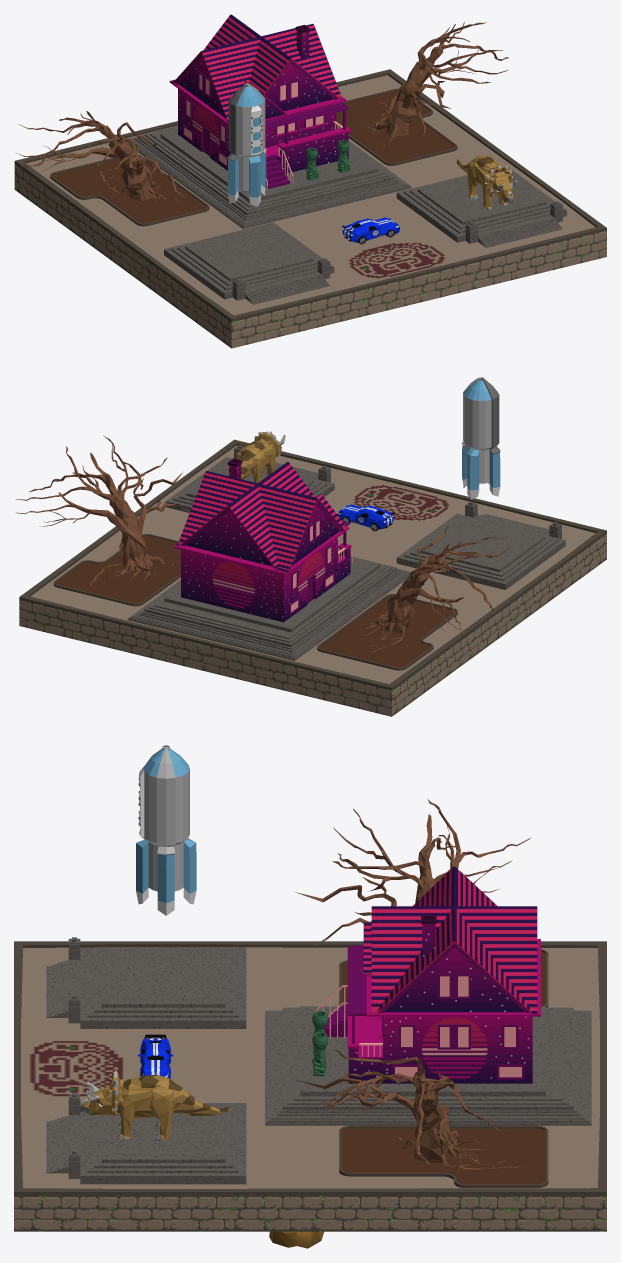
The picture shows the model from 3 angles, top to bottom: view 1: azimuth 30°, elevation 25°; view 2: azimuth 150°, elevation 25°; view 3: azimuth 270°, elevation 25°; orthographic projection. The views are drawn at different scales.
Visible parts, largest first — view 1: Cube.011, Cube.156, OBJRANDOM_ROCKETSHIP, ANIMAL_Triceratops, VEHICLES_RACING_CAR; view 2: Cube.011, Cube.156, OBJRANDOM_ROCKETSHIP, ANIMAL_Triceratops, VEHICLES_RACING_CAR; view 3: Cube.011, Cube.156, OBJRANDOM_ROCKETSHIP, ANIMAL_Triceratops, VEHICLES_RACING_CAR, UNDERGROUND_T_REX_BONES.
Part boxes in pixels (bbox=[...]): Cube.011: bbox=[14, 22, 606, 348]; Cube.156: bbox=[169, 14, 351, 189]; OBJRANDOM_ROCKETSHIP: bbox=[227, 83, 266, 206]; ANIMAL_Triceratops: bbox=[457, 155, 517, 209]; VEHICLES_RACING_CAR: bbox=[342, 217, 399, 244]; Cube.011: bbox=[15, 435, 606, 716]; Cube.156: bbox=[173, 458, 352, 622]; OBJRANDOM_ROCKETSHIP: bbox=[462, 377, 500, 499]; ANIMAL_Triceratops: bbox=[236, 431, 285, 483]; VEHICLES_RACING_CAR: bbox=[337, 504, 394, 531]; Cube.011: bbox=[14, 799, 606, 1231]; Cube.156: bbox=[315, 866, 540, 1083]; OBJRANDOM_ROCKETSHIP: bbox=[136, 745, 196, 915]; ANIMAL_Triceratops: bbox=[79, 1071, 230, 1140]; VEHICLES_RACING_CAR: bbox=[138, 1034, 173, 1078]; UNDERGROUND_T_REX_BONES: bbox=[269, 1231, 323, 1248].
Size of the model in its own units: 5099 by 2289 by 4000.
Materials: 37 (7 with a texture image).
